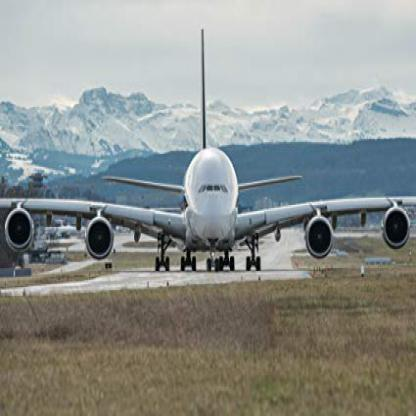CIV_Plane: (0, 22, 415, 280)
